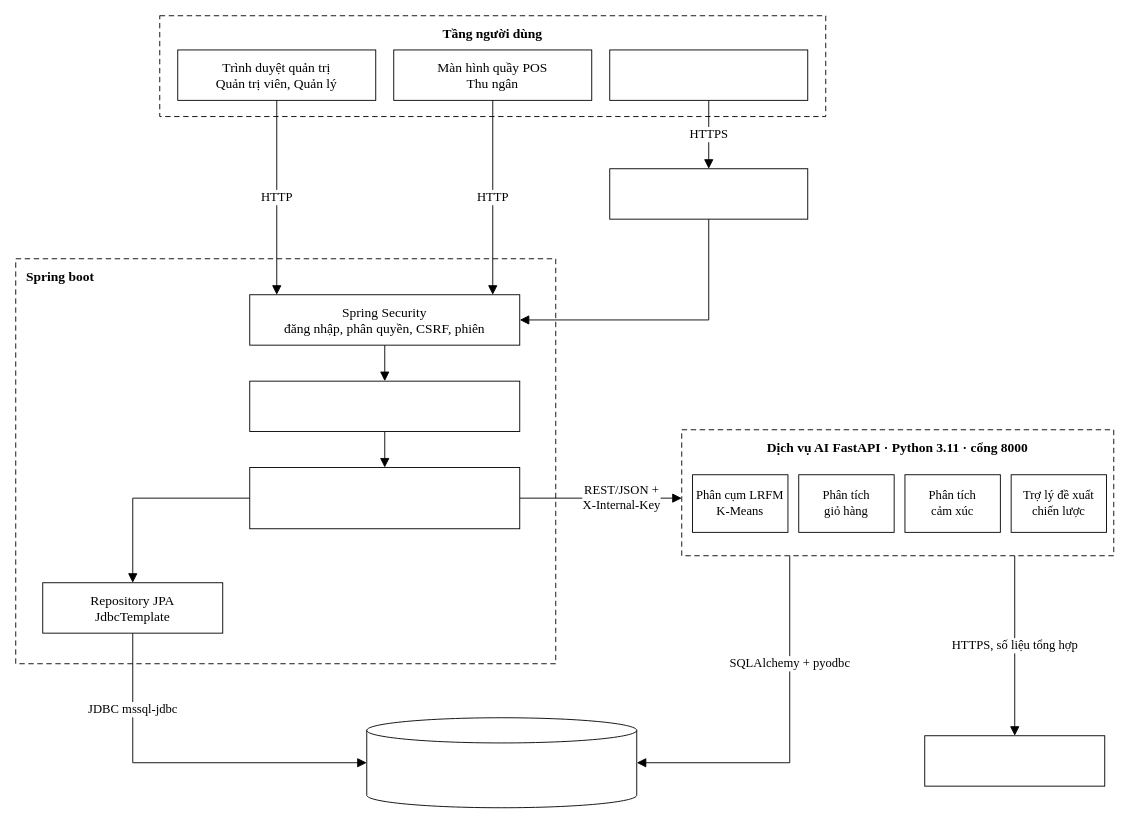
The diagram is 1130 pixels wide and 824 high, and some of its shapes have lost their labels. Each missing label, with the centre of its shape:
"Cloudflare Tunnel cổng 8081 – chỉ mở /member" goes at point (708, 193).
"Controller Thymeleaf + REST API" goes at point (384, 406).
"Google Gemini API" goes at point (1014, 760).
"Microsoft SQL Server" goes at point (501, 762).
"Service POS, ưu đãi, kho, ca, doanh thu" goes at point (384, 498).
"Điện thoại khách hàng Trang thẻ thành viên" goes at point (708, 74).
